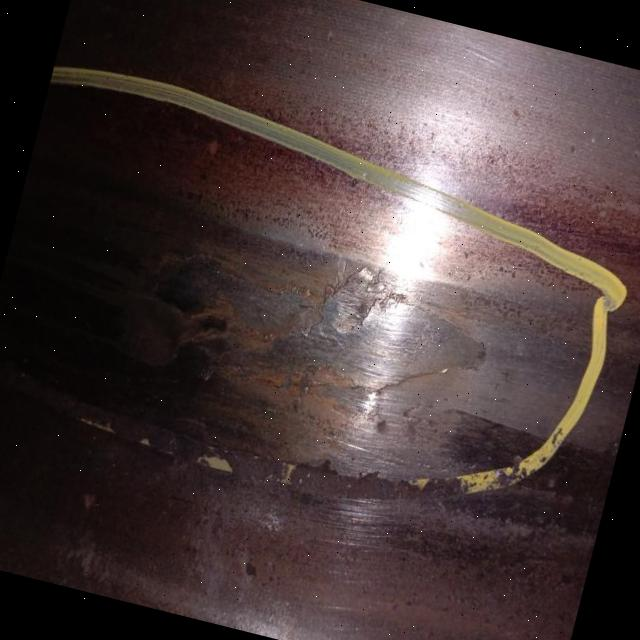Peeling: (275, 452, 447, 540), (303, 244, 403, 364)
